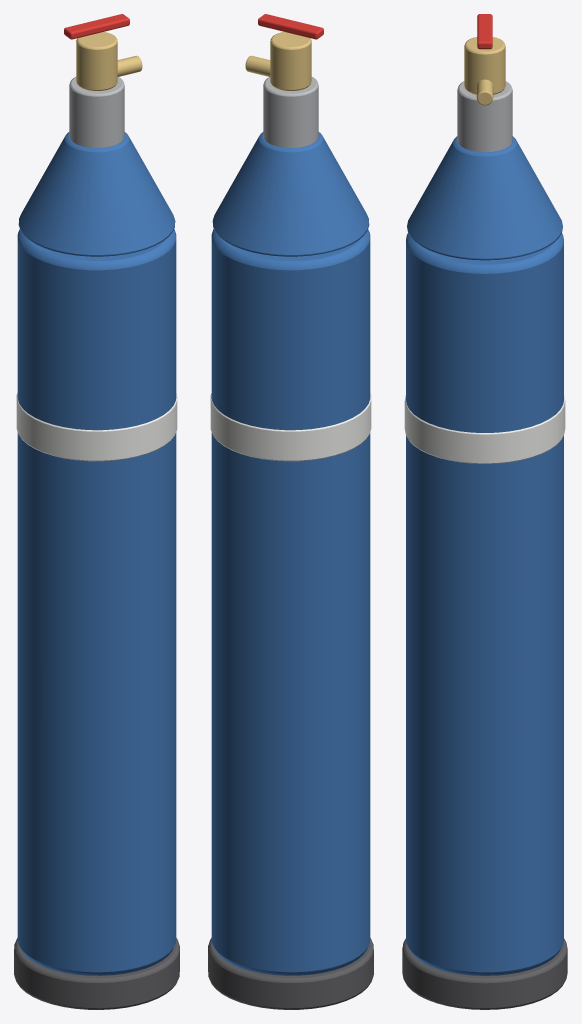
File: gas_cylinder_blue.glb
3 views of the same model, side by side, from view 1: azimuth 30°, elevation 25°; view 2: azimuth 150°, elevation 25°; view 3: azimuth 270°, elevation 25° (orthographic).
Visible parts, largest first — view 1: gas_cylinder_blue; view 2: gas_cylinder_blue; view 3: gas_cylinder_blue.
Boxes of the visible parts, x1=… form: gas_cylinder_blue: x1=14, y1=14, x2=179, y2=1009; gas_cylinder_blue: x1=208, y1=14, x2=373, y2=1009; gas_cylinder_blue: x1=402, y1=14, x2=567, y2=1009.
Size of the model in its own units: 0.24 by 1.52 by 0.24.
